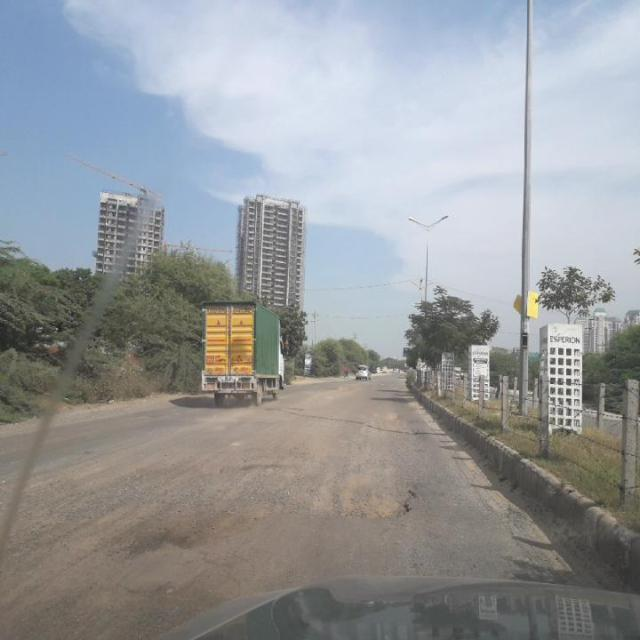Pothole: (366, 492, 426, 520)
Surface Erosion: (88, 343, 638, 640)
